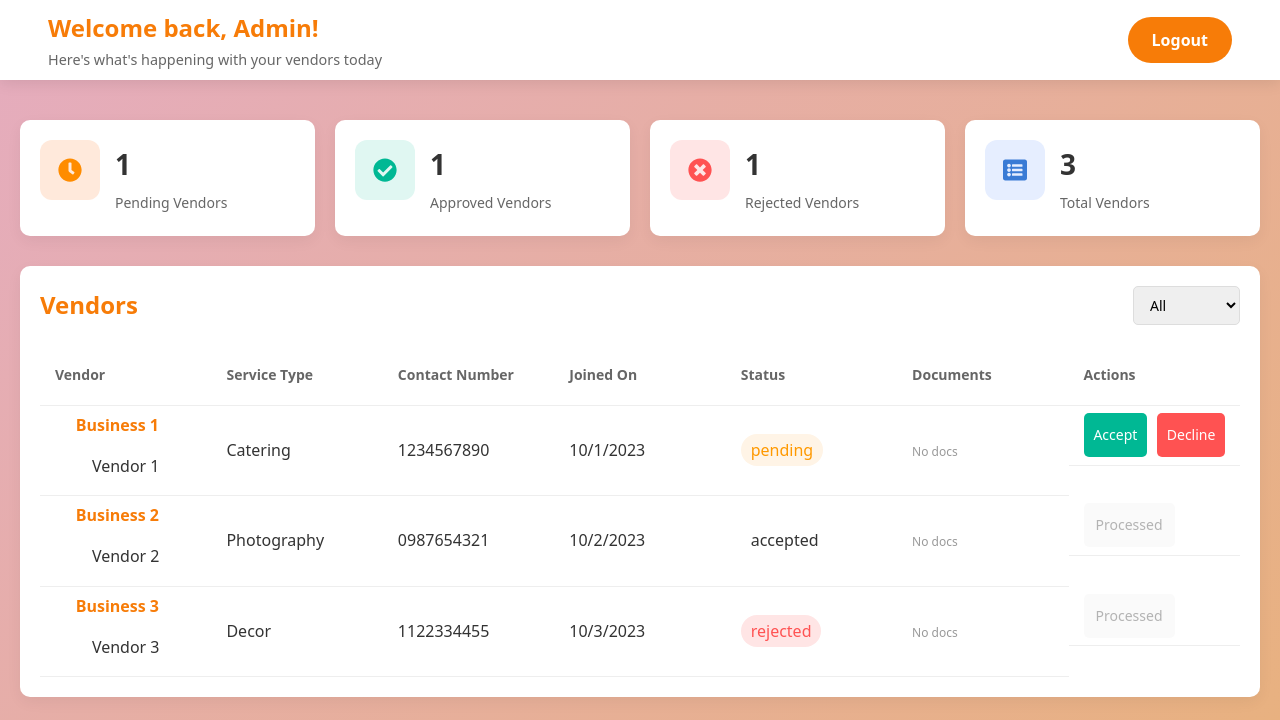
Scenario: AdminDashboard › filters vendors by status
Check: the text "Vendor 1" is shown, box x1=92 y1=454 x2=160 y2=479
Check: the text "Vendor 2" is shown, box x1=92 y1=544 x2=160 y2=570
Note: Change filter to Pending
Select "Pending" in the dropdown. click: (1186, 306)
box: x1=1133 y1=286 x2=1240 y2=325
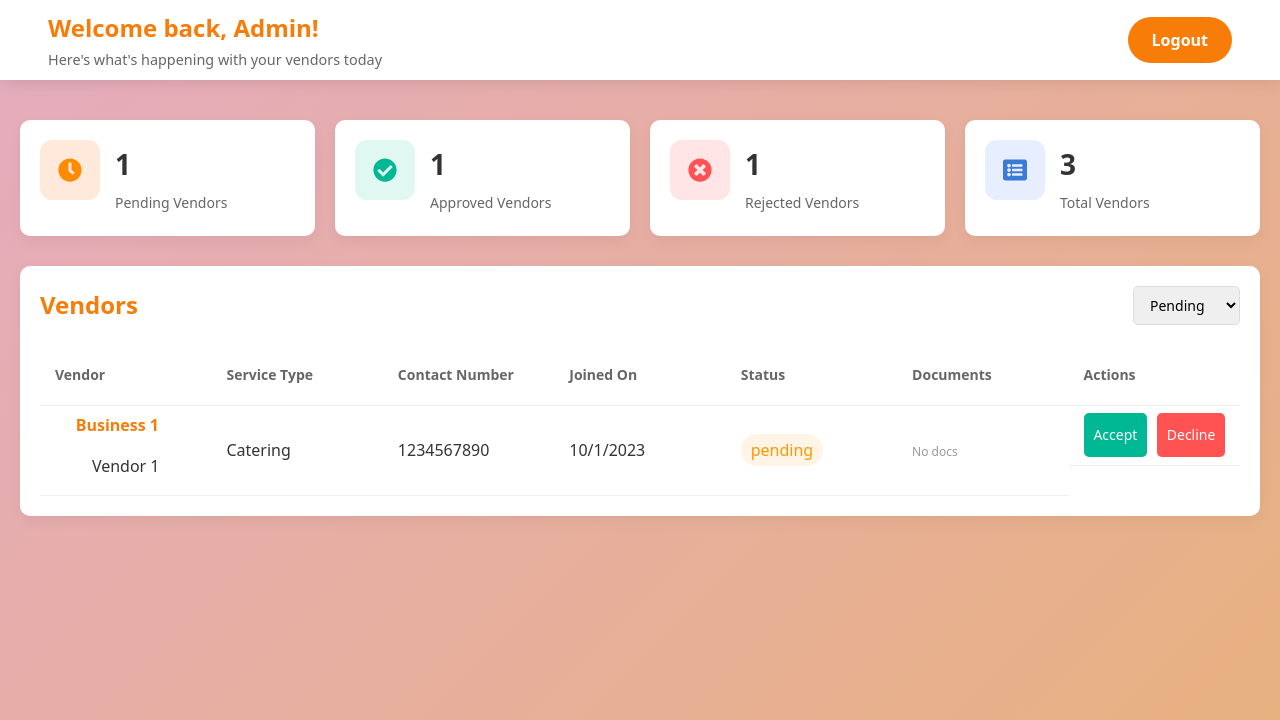
Check: the text "Vendor 1" is shown, box x1=92 y1=454 x2=160 y2=479
Check: the text "Vendor 2" is gone
Check: the text "Vendor 3" is gone
